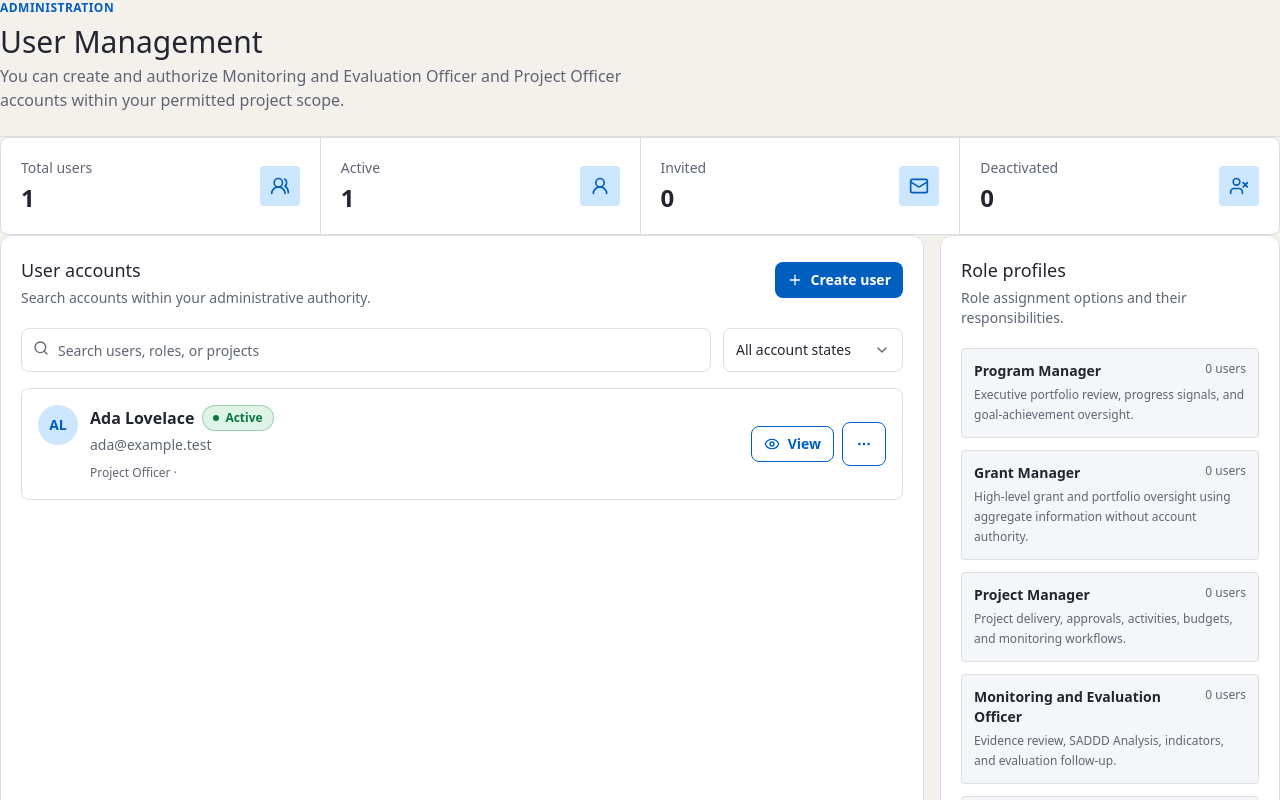
Test: user management: create user via existing Auth authorization › shows a 403 server error from authorizeExistingUser
Click the button "Create user" at [839, 280], box [774,262,903,298]
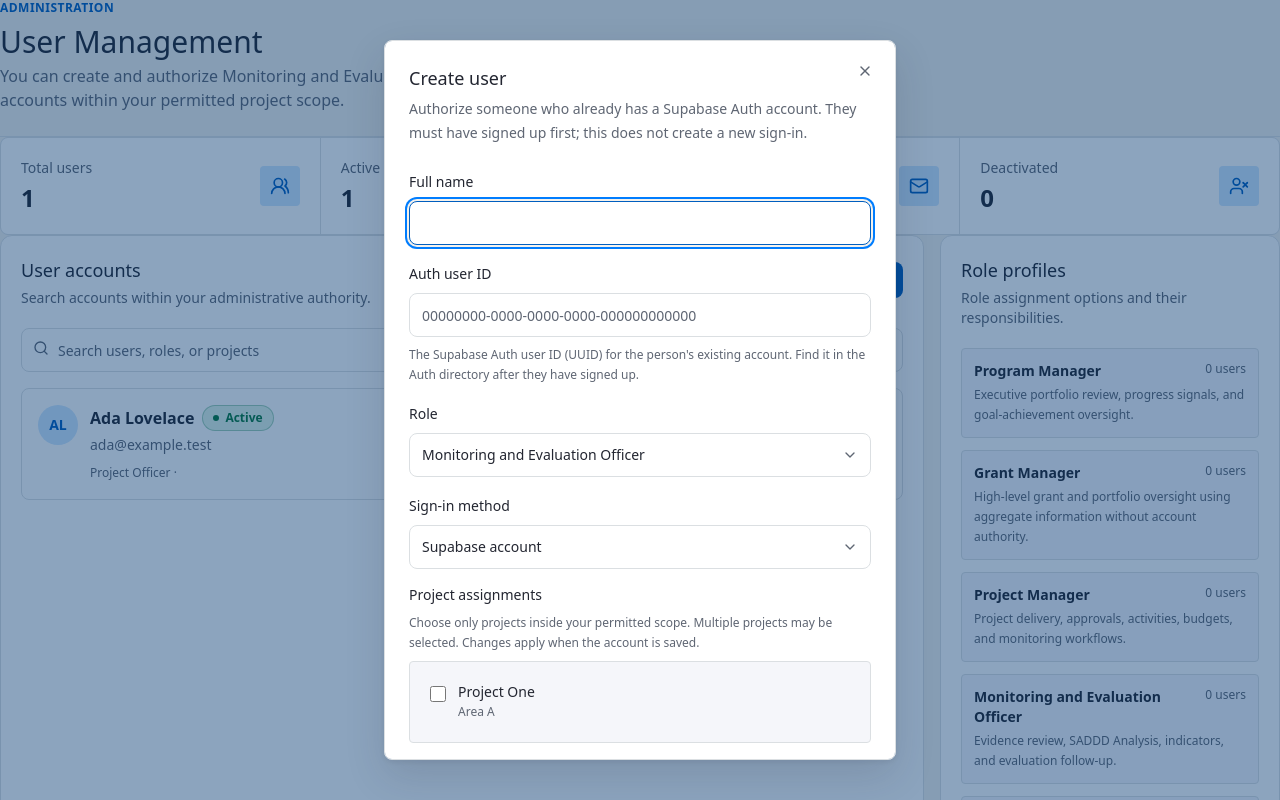
Type "Grace Hopper" into the field labelled "Full name" at [640, 223], box [409,201,871,245]
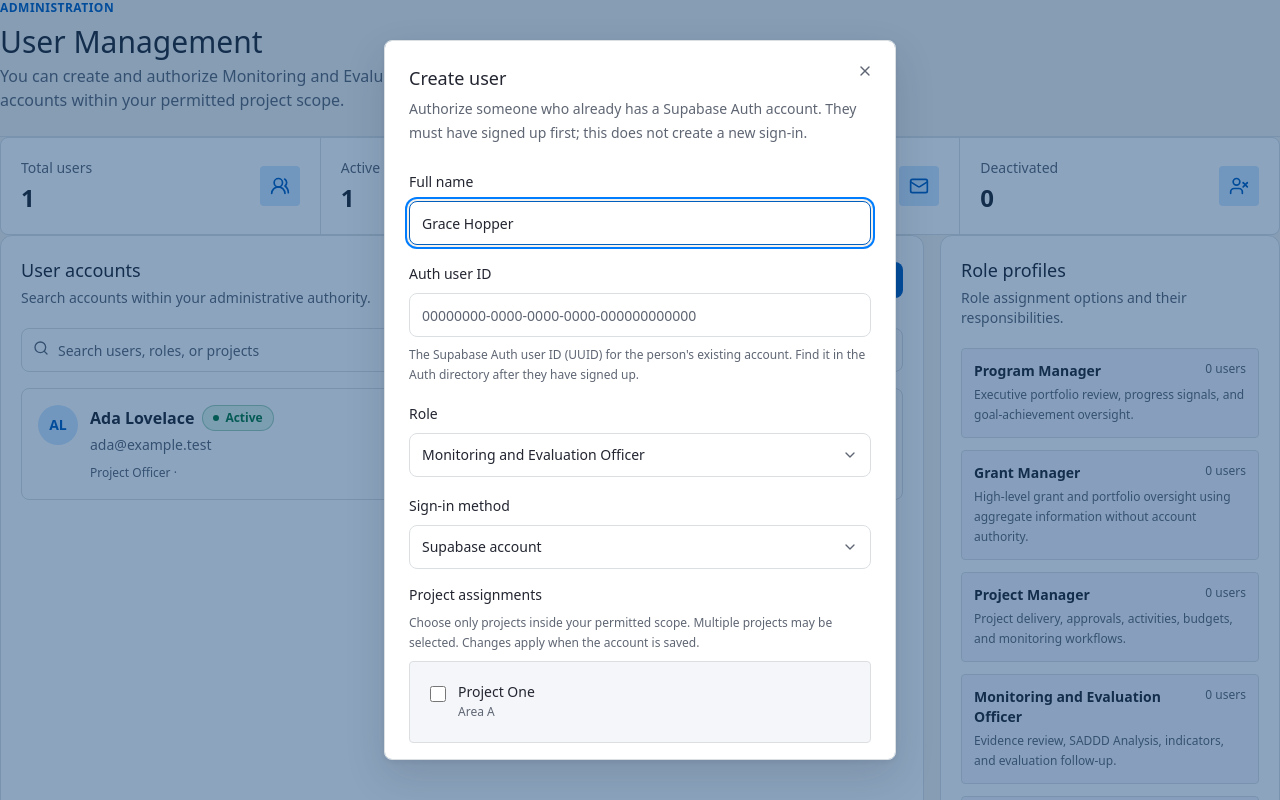
Type "11111111-1111-1111-1111-111111111111" into the field labelled "Auth user ID" at [640, 315], box [409,293,871,337]
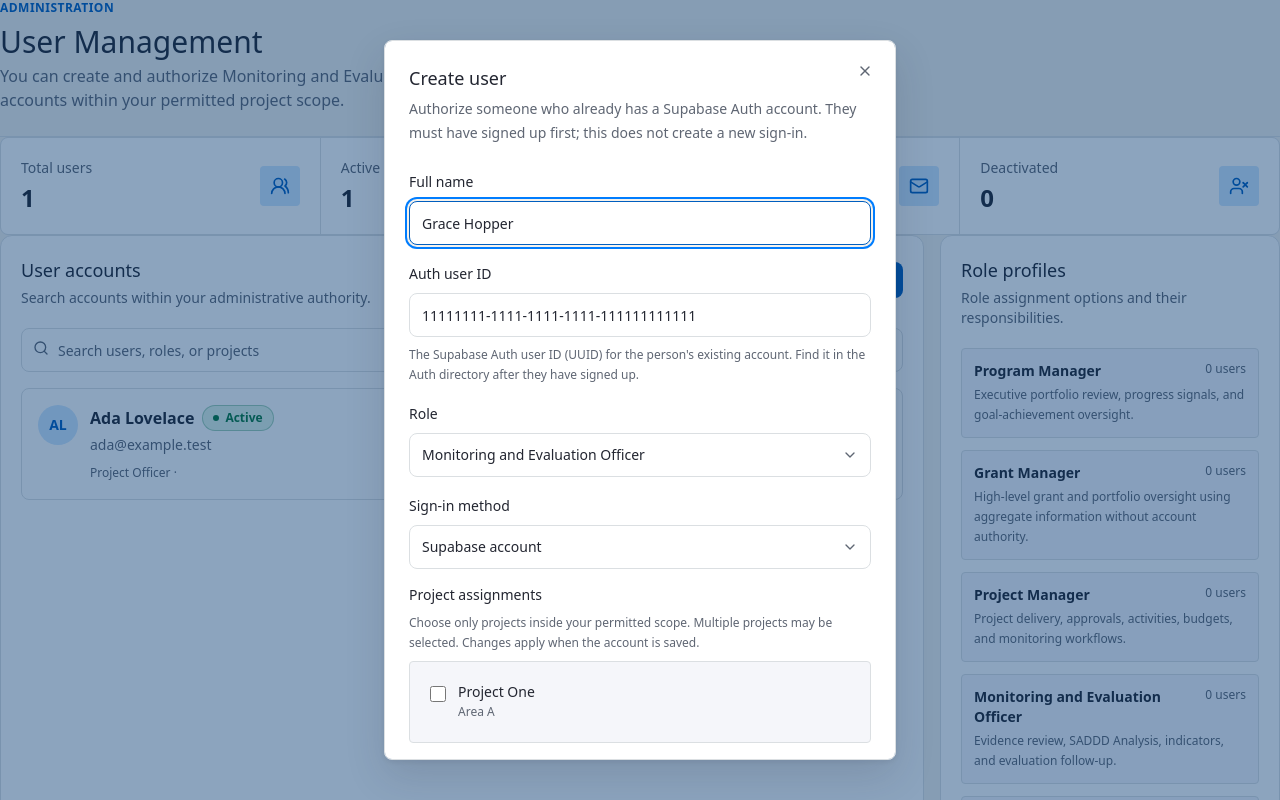
Click the checkbox named "assign project one" at [438, 694], box [430,686,446,702]
(page scrolled)
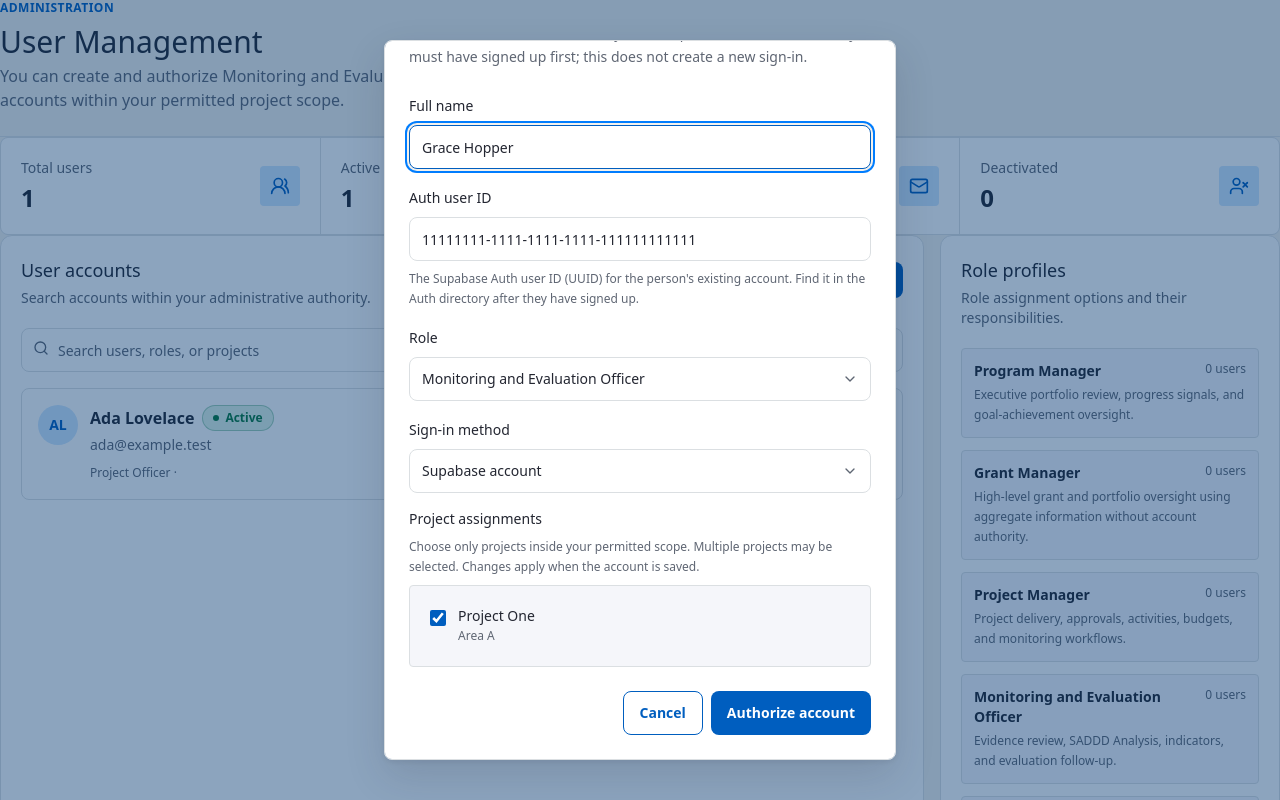
Click the button "Authorize account" at [791, 713], box [711,691,871,735]
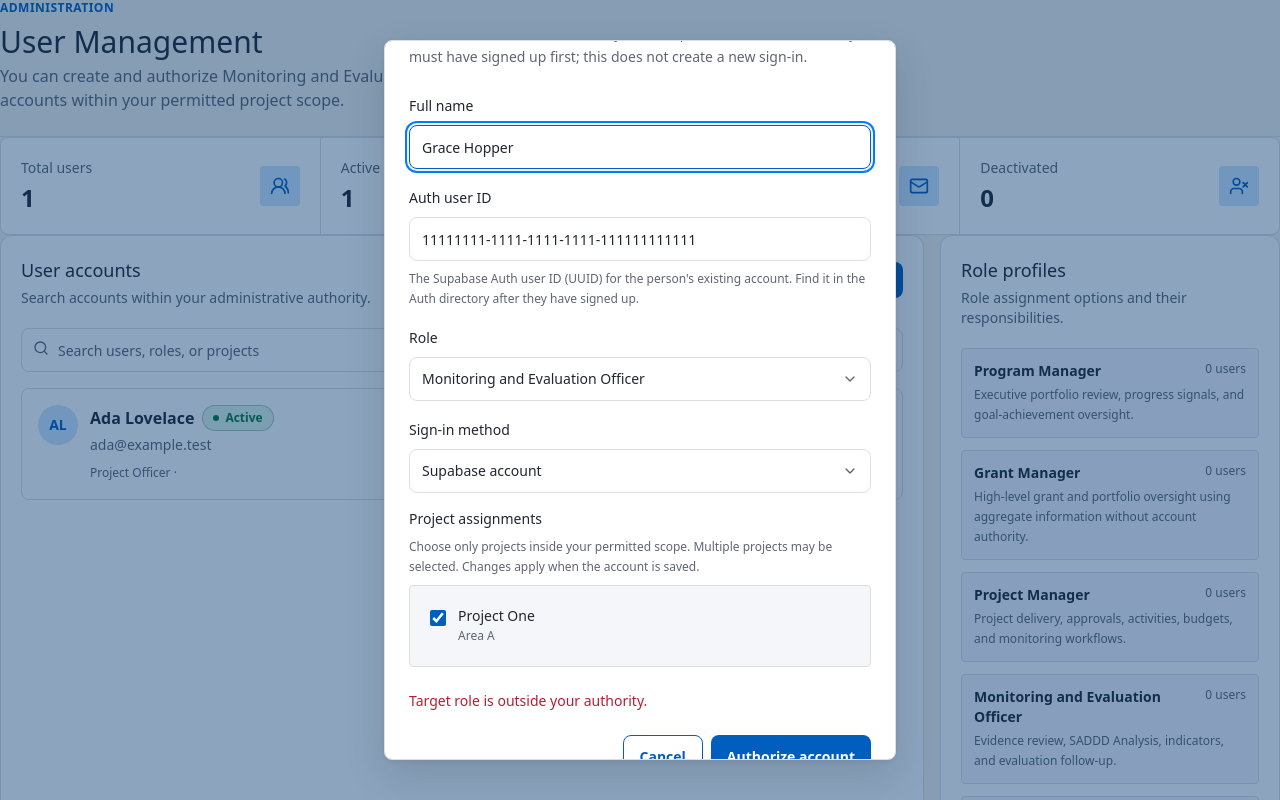
Expected: the text "Target role is outside your authority." is shown, [409,691,647,710]
